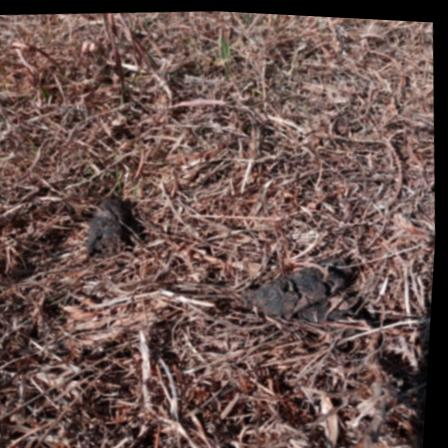dog-poop: (235, 241, 373, 341), (79, 188, 134, 265)
